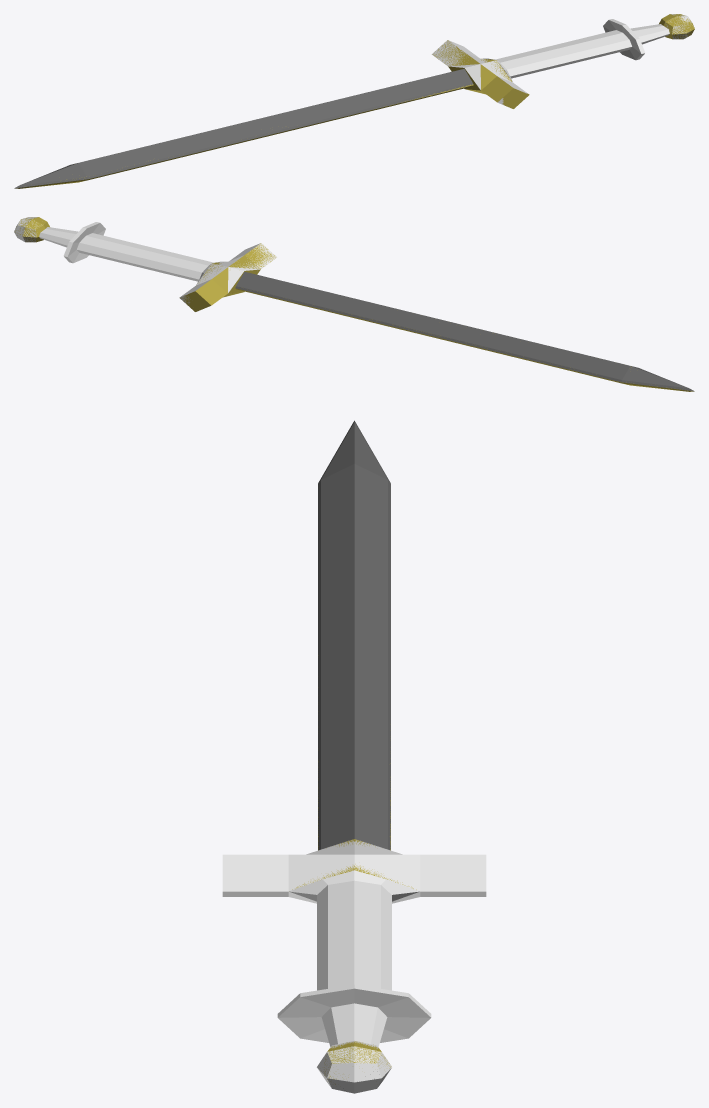
The model's file is Sworrd test model.glb.
The picture shows the model from 3 angles, top to bottom: view 1: azimuth 30°, elevation 25°; view 2: azimuth 150°, elevation 25°; view 3: azimuth 270°, elevation 25°; orthographic projection. The views are drawn at different scales.
Parts seen in each view (by area): view 1: Blade, Handle, sword, Hilt, Ball; view 2: Blade, Handle, sword, Hilt, Ball; view 3: Blade, Handle, Hilt, Ball, sword.
Boxes of the visible parts, x1=… form: Blade: x1=14, y1=68, x2=472, y2=188; Handle: x1=483, y1=19, x2=669, y2=81; sword: x1=16, y1=14, x2=694, y2=188; Hilt: x1=431, y1=40, x2=527, y2=104; Ball: x1=665, y1=14, x2=692, y2=39; Blade: x1=235, y1=271, x2=693, y2=391; Handle: x1=39, y1=222, x2=225, y2=284; sword: x1=14, y1=217, x2=694, y2=391; Hilt: x1=179, y1=243, x2=277, y2=306; Ball: x1=14, y1=217, x2=42, y2=242; Blade: x1=318, y1=420, x2=390, y2=850; Handle: x1=277, y1=870, x2=431, y2=1046; Hilt: x1=222, y1=840, x2=486, y2=903; Ball: x1=317, y1=1040, x2=391, y2=1093; sword: x1=292, y1=655, x2=416, y2=1084.
Size of the model in its own units: 16.23 by 0.6683 by 2.73.
2 materials, 1 textured.
